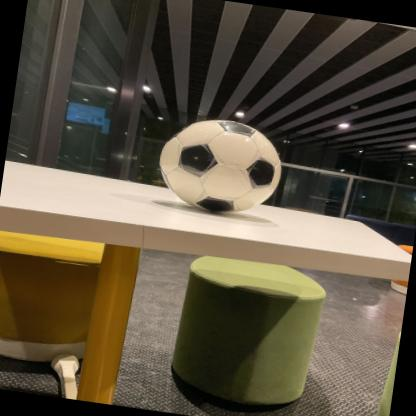ball: (154, 112, 287, 219)
